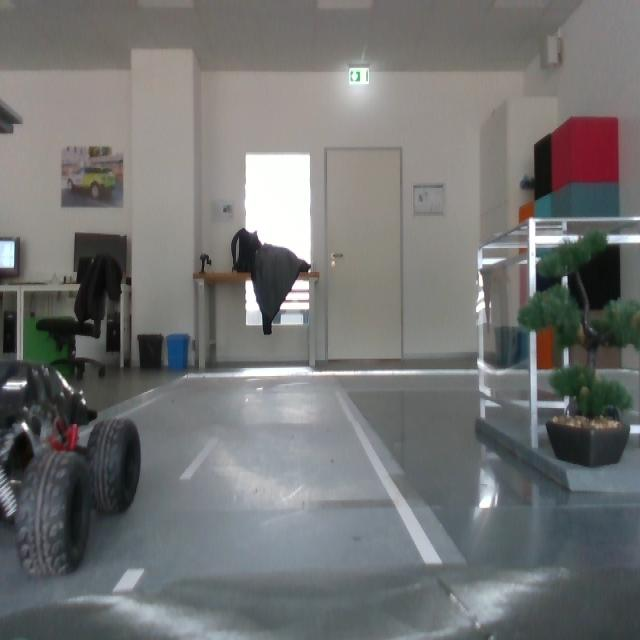car: (3, 351, 143, 581)
potted plant: (518, 230, 640, 419)
